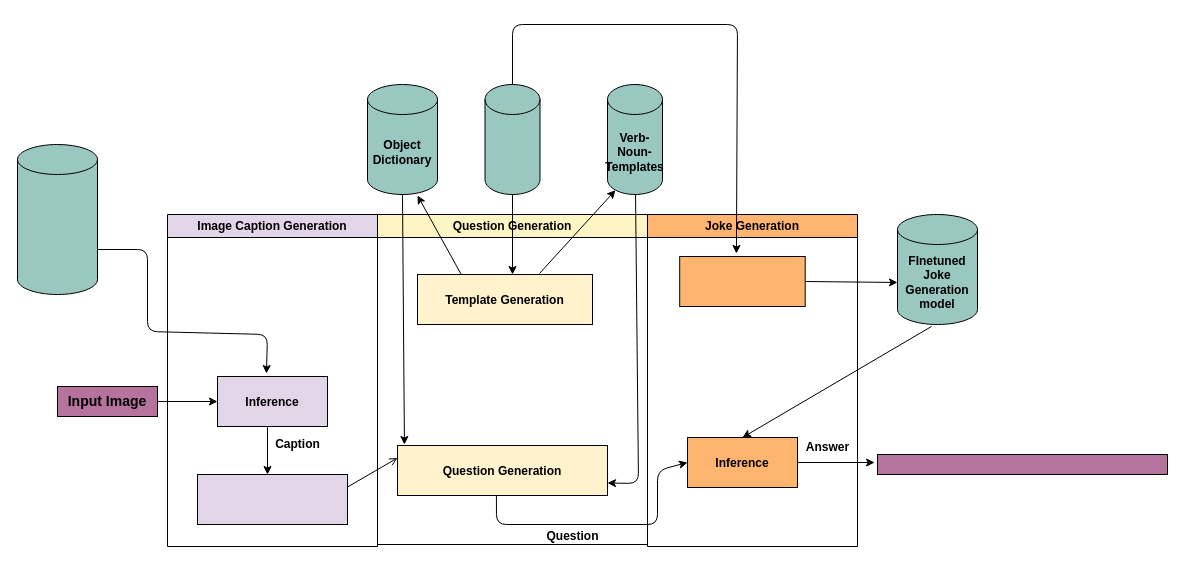
This 1185x564 diagram has some shape labels left out. The centre of each missing label's shape, as x and y in pixels:
Joke Dataset: (512,139)
Output (Joke in Question Answer format): (1022,464)
Phrase Extraction (NP,VB): (272,499)
ResNet+RNN model: (57,219)
Training(GPT2 model): (742,281)
